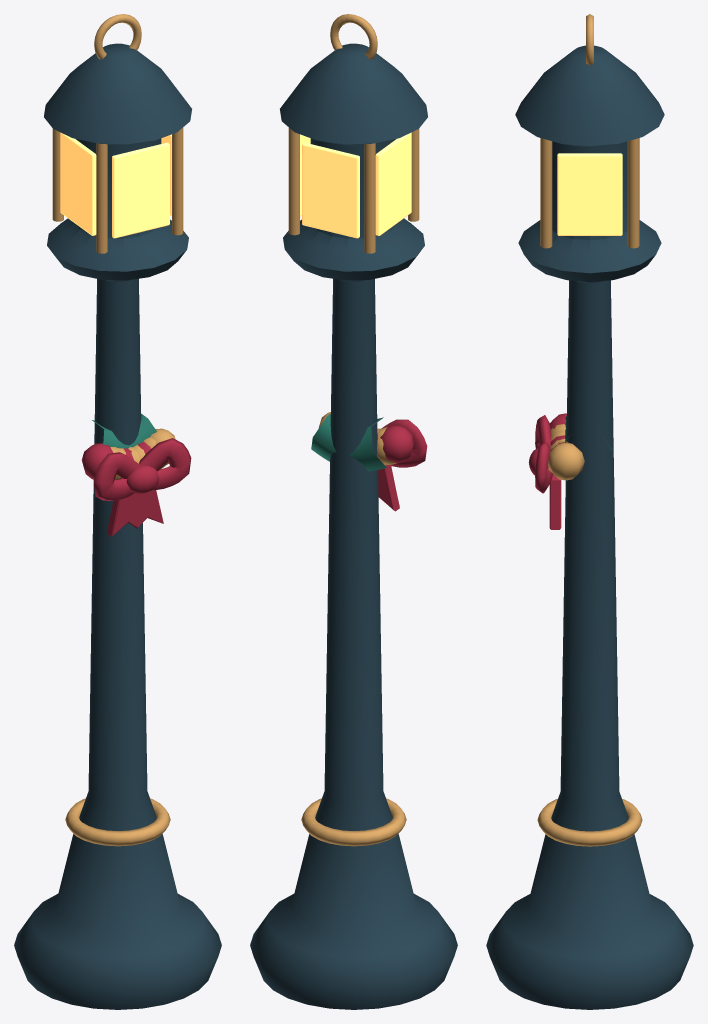
Rendered from storybook-christmas-market-ribbon-lantern-post-776f186d__19695.glb.
3 views of the same model, side by side, from view 1: azimuth 30°, elevation 25°; view 2: azimuth 150°, elevation 25°; view 3: azimuth 270°, elevation 25° (orthographic).
Visible parts, largest first — view 1: ribbon-lantern-post; view 2: ribbon-lantern-post; view 3: ribbon-lantern-post.
Part boxes in pixels (box(x1,y1,x2,y2)): ribbon-lantern-post: box(14, 14, 221, 1009); ribbon-lantern-post: box(250, 14, 457, 1009); ribbon-lantern-post: box(486, 14, 693, 1009).
Bounding box in the file's own units: 0.5998 × 3.04 × 0.5998.
